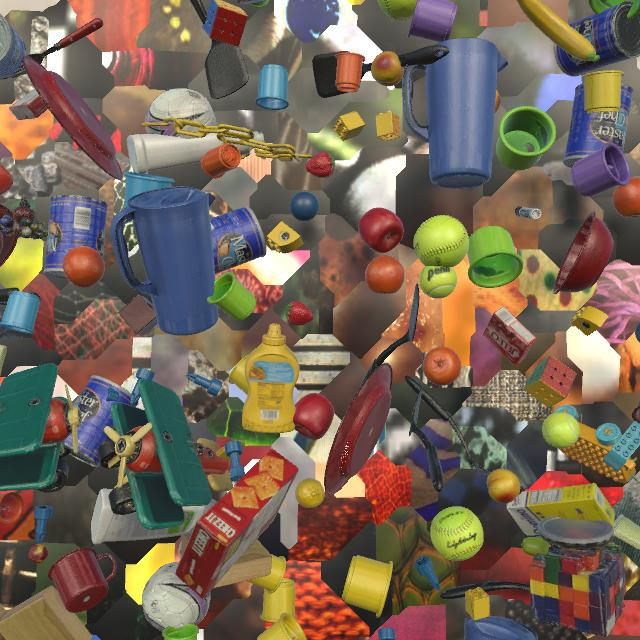ycb_002_master_chef_can: (61, 375, 139, 467), (554, 1, 640, 77), (563, 83, 634, 168), (44, 194, 108, 279), (210, 205, 267, 274), (0, 13, 26, 80)
ycb_003_cracker_box: (175, 448, 299, 599)
ycb_004_sugar_box: (506, 483, 615, 536)
ycb_006_mustard_bottle: (242, 324, 299, 433)
ycb_009_gelatin_box: (483, 307, 537, 366), (9, 89, 48, 120)
ycb_011_banana: (517, 0, 600, 62)
ycb_012_strawberry: (306, 152, 335, 178), (285, 301, 313, 326)
ycb_013_apple: (358, 207, 404, 253), (293, 393, 334, 440)
ycb_014_lemon: (295, 478, 325, 508)
ycb_015_peach: (487, 469, 520, 504), (371, 51, 404, 86), (495, 90, 501, 113)
ycb_016_pear: (521, 536, 551, 557)
ycb_017_orange: (63, 246, 105, 288), (365, 255, 405, 294), (422, 347, 461, 386), (612, 177, 640, 218)
